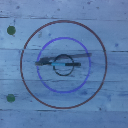Axe Tip: (39, 58, 50, 61)
